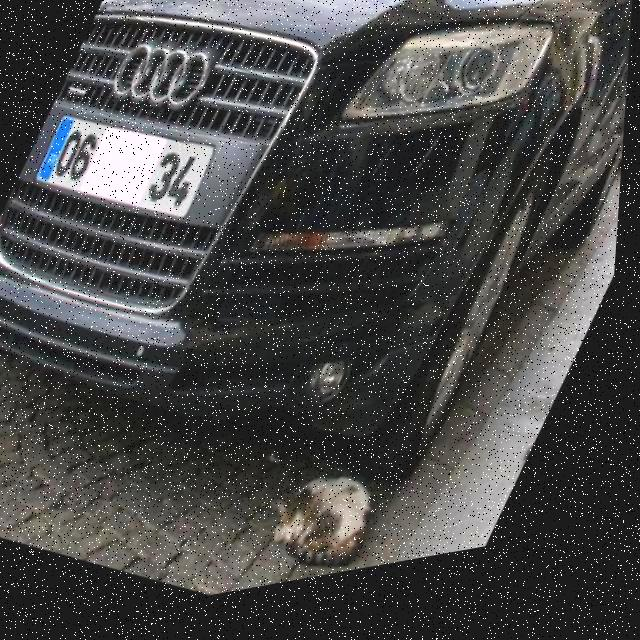license_plate: (32, 88, 223, 250)
